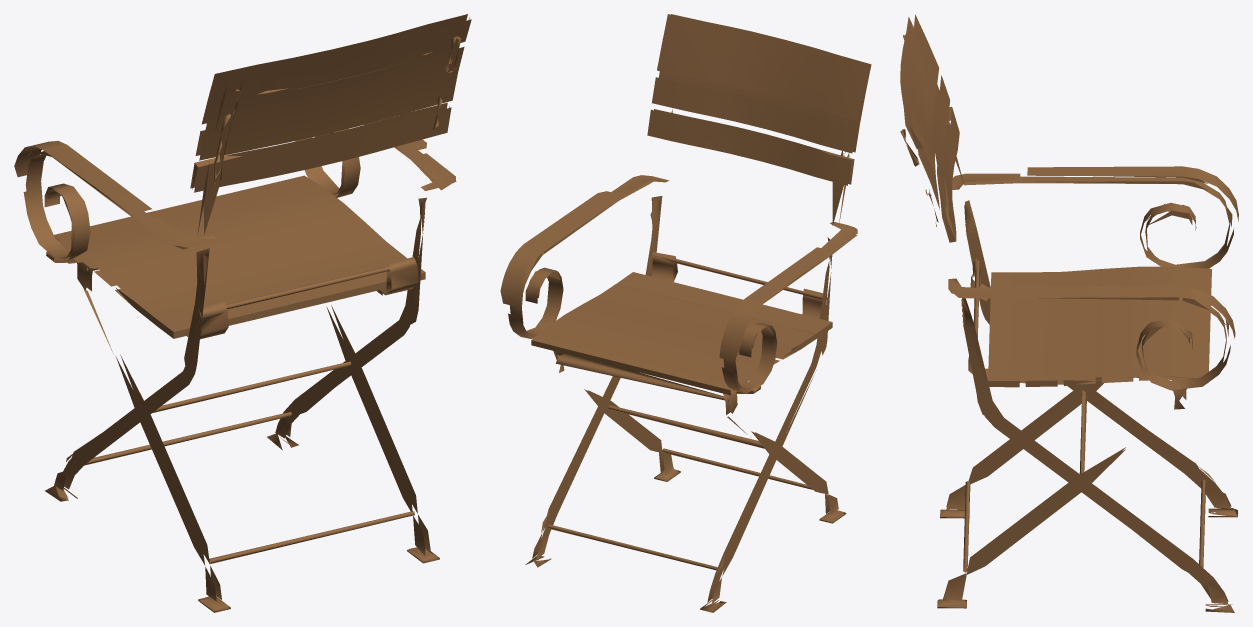
Rendered from B_CafeChair_LOD2.obj.
3 renders of one model, left to right at view 1: azimuth 30°, elevation 25°; view 2: azimuth 150°, elevation 25°; view 3: azimuth 270°, elevation 25°, orthographic. The views are drawn at different scales.
Visible parts, largest first — view 1: B_CafeChair_m0; view 2: B_CafeChair_m0; view 3: B_CafeChair_m0.
Part boxes in pixels (bbox=[...]): B_CafeChair_m0: bbox=[14, 14, 471, 612]; B_CafeChair_m0: bbox=[500, 14, 871, 612]; B_CafeChair_m0: bbox=[900, 14, 1238, 612].
Size of the model in its own units: 0.5835 by 1.03 by 0.6412.
